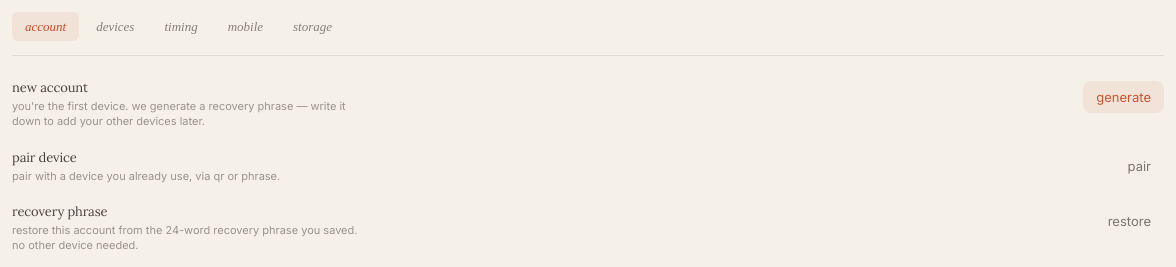
Test: SyncSettings › generates a phrase and advances to the phrase step on setup
This screenshot has width=1176, height=267.
What coordinates should you click on to do the following:
click the button "generate"
I would click on:
 (1124, 97)
Its box is top-left (1083, 81), bottom-right (1164, 113).
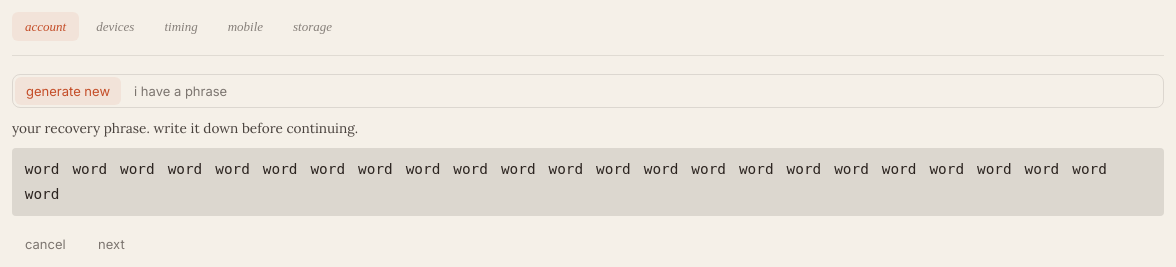
Now the text "generate new" is shown, box top-left (15, 77), bottom-right (121, 105)
